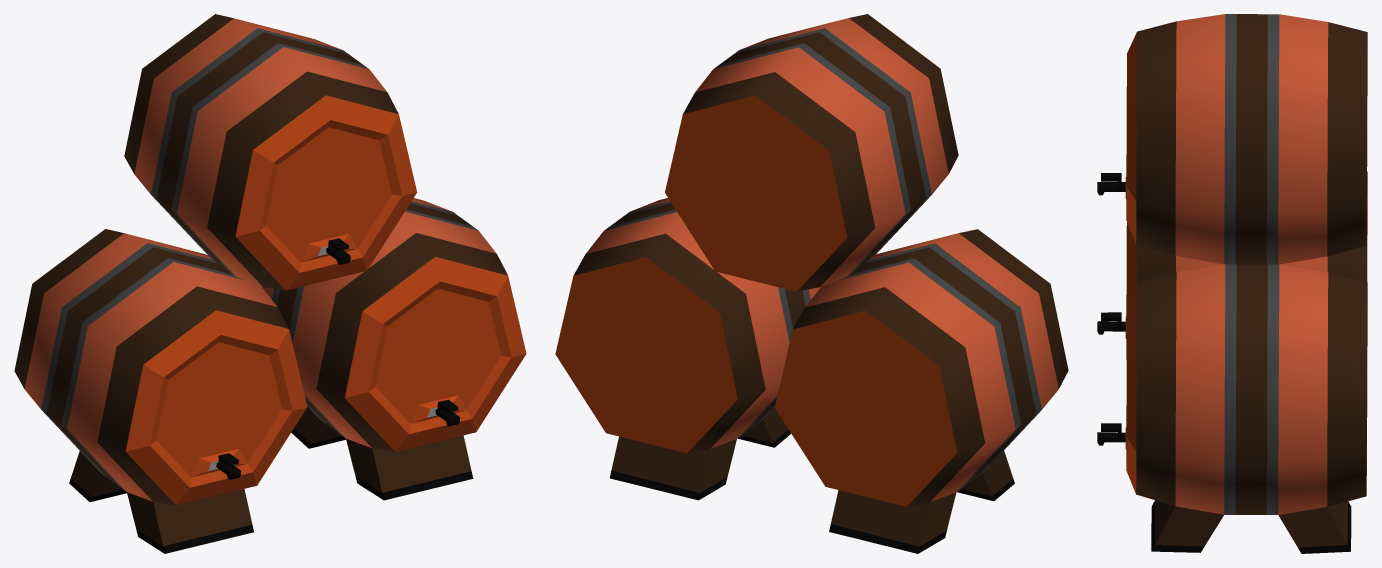
The model's file is barriltriplo.FBX.
3 views of the same model, side by side, from view 1: azimuth 30°, elevation 25°; view 2: azimuth 150°, elevation 25°; view 3: azimuth 270°, elevation 25° (orthographic). The views are drawn at different scales.
Parts seen in each view (by area): view 1: Cylinder002, barril003, barril2; view 2: Cylinder002, barril003, barril2; view 3: barril2, barril003, Cylinder002.
Boxes of the visible parts, <box> form: Cylinder002: <box>14,229,307,553</box>; barril003: <box>124,14,417,290</box>; barril2: <box>262,198,526,500</box>; Cylinder002: <box>775,229,1068,553</box>; barril003: <box>665,14,958,291</box>; barril2: <box>555,198,820,500</box>; barril2: <box>1097,264,1367,553</box>; barril003: <box>1097,14,1367,264</box>; Cylinder002: <box>1097,171,1367,359</box>.
Size of the model in its own units: 657 by 643 by 342.
